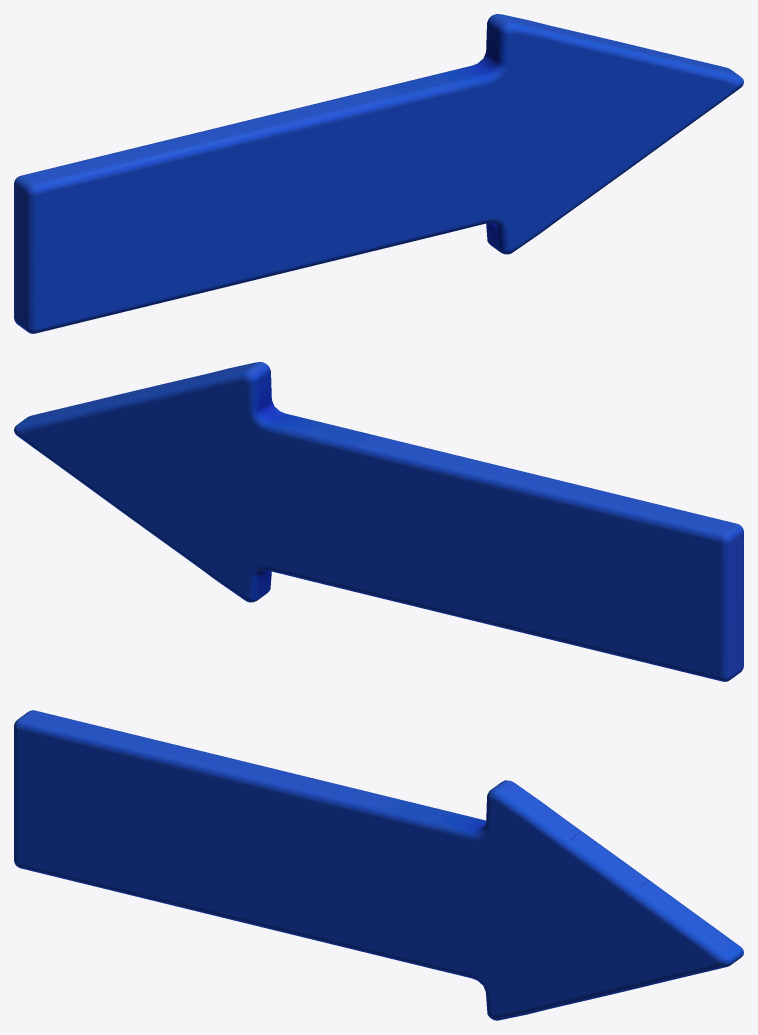
The model's file is straightArrow.fbx.
3 views of the same model, one above another, from view 1: azimuth 30°, elevation 25°; view 2: azimuth 150°, elevation 25°; view 3: azimuth 330°, elevation 25° (orthographic).
Parts seen in each view (by area): view 1: mesh_id22; view 2: mesh_id22; view 3: mesh_id22.
Boxes of the visible parts, x1,y1,x2,y2 form: mesh_id22: [14, 14, 743, 333]; mesh_id22: [14, 362, 743, 681]; mesh_id22: [14, 710, 743, 1020].
Size of the model in its own units: 222 by 68.48 by 10.27.
1 material, 1 textured.
